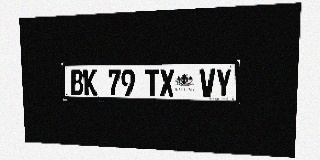7: (107, 69, 121, 96)
9: (121, 69, 135, 96)
B: (70, 70, 84, 95)
K: (83, 69, 97, 96)
T: (145, 69, 159, 96)
V: (199, 69, 215, 97)
X: (160, 69, 174, 97)
Y: (215, 68, 232, 98)
